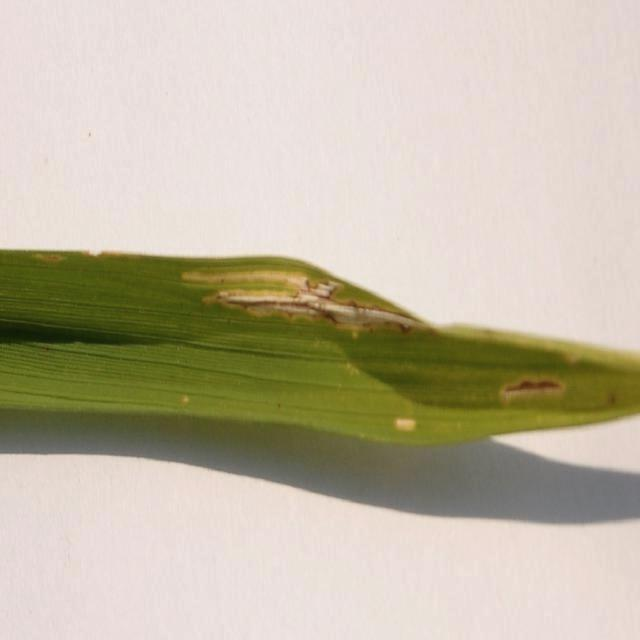bacterial_leaf_blight: (204, 274, 420, 329), (501, 379, 563, 400), (395, 418, 416, 430)
